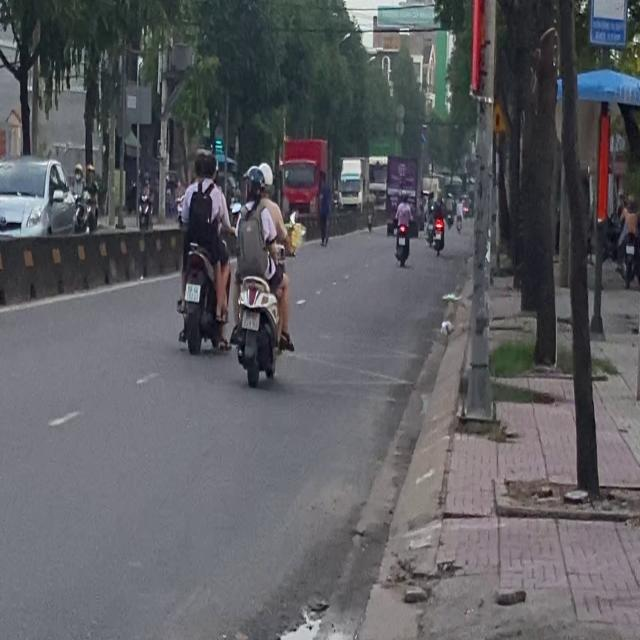helmet: (242, 164, 262, 202), (256, 161, 272, 190)
licenseplate: (229, 161, 294, 387), (174, 146, 233, 355)
motorcyclist: (192, 148, 215, 182)
nohelmet: (241, 309, 258, 328), (185, 282, 200, 302)
